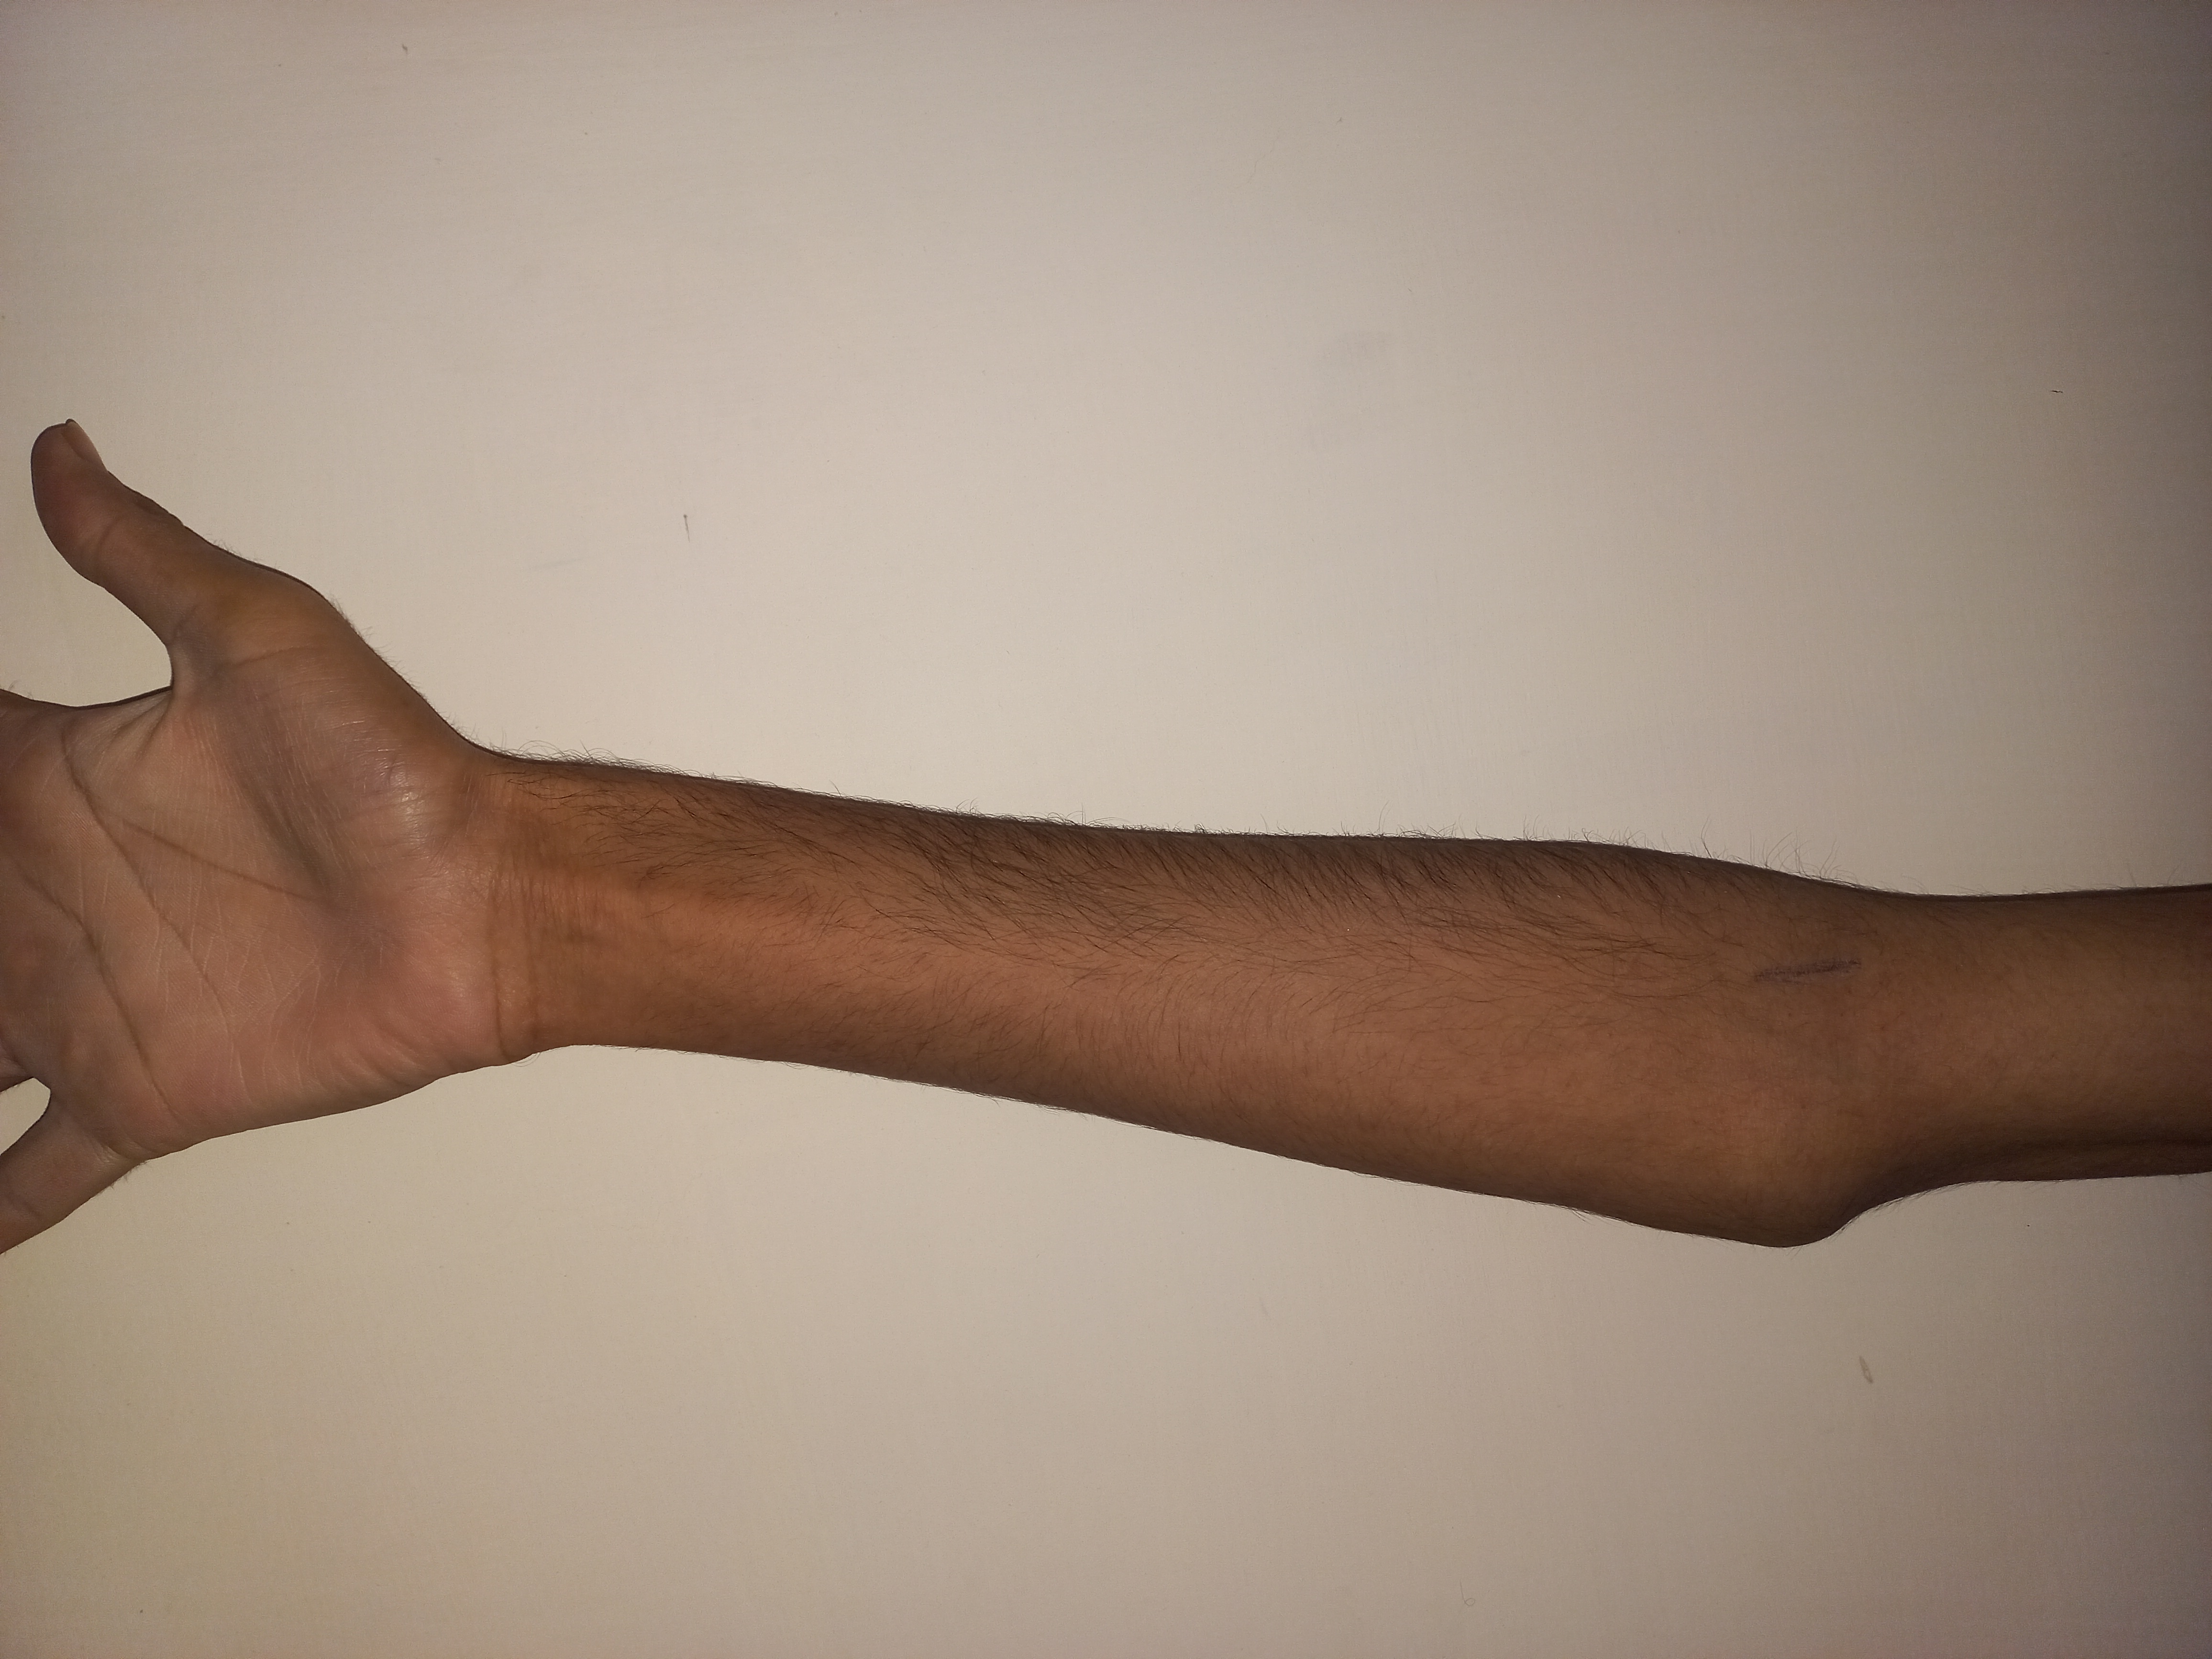vein: (1754, 950, 1895, 1012)
